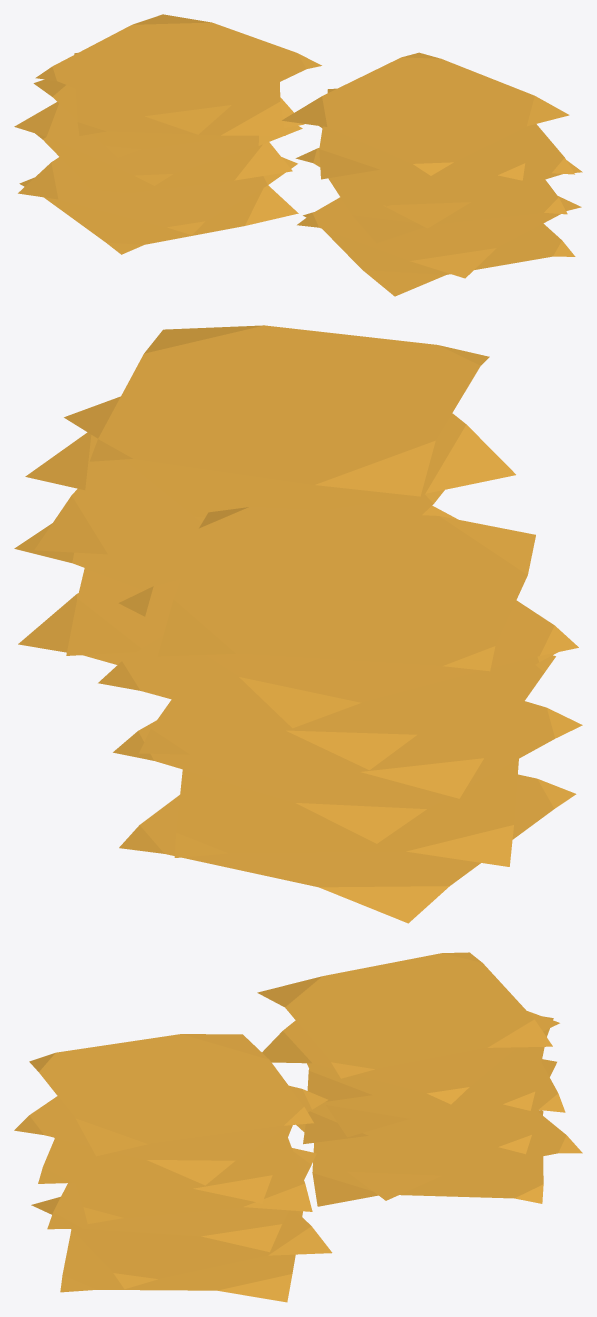
Rendered from cheese.fbx.
3 views of the same model, one above another, from view 1: azimuth 30°, elevation 25°; view 2: azimuth 150°, elevation 25°; view 3: azimuth 270°, elevation 25° (orthographic). The views are drawn at different scales.
Visible parts, largest first — view 1: Plane.015; view 2: Plane.015; view 3: Plane.015.
Boxes of the visible parts, x1,y1,x2,y2 form: Plane.015: (14,14,582,296); Plane.015: (14,325,582,923); Plane.015: (14,952,582,1302).
Bounding box in the file's own units: 31.45 × 10.35 × 34.22.
